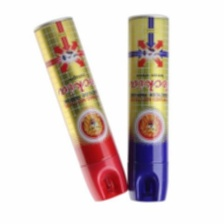aerosol_cans: (29, 13, 131, 205), (125, 10, 170, 207)
